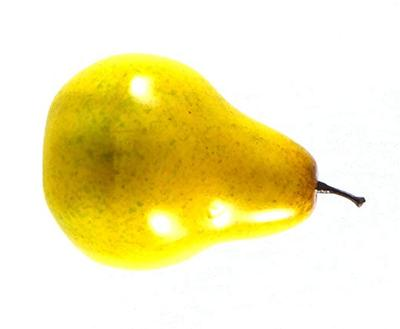pear: (0, 0, 400, 329)
